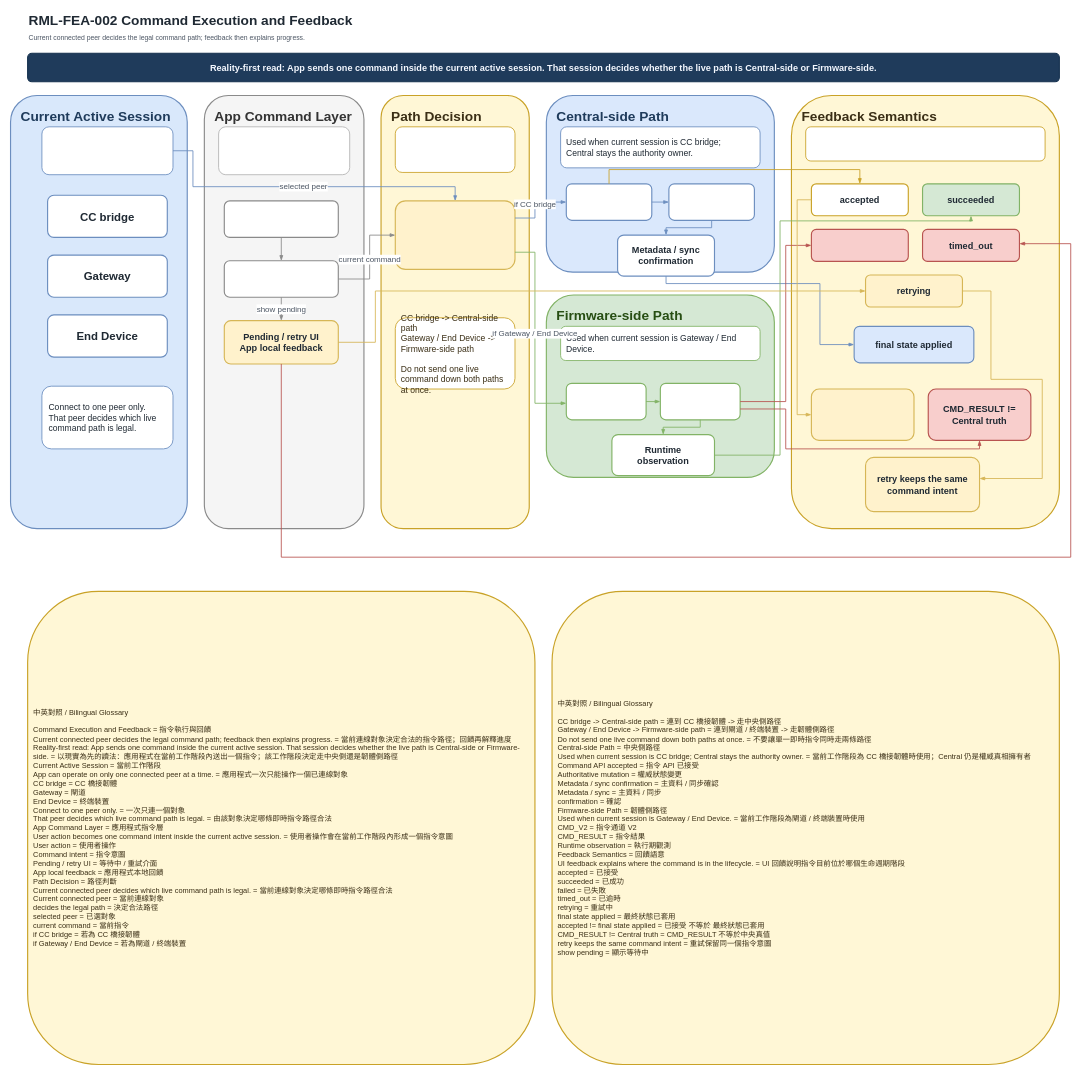
Some shapes in this 1085 by 1074 pixel diagram are drawn without their labels. The centre of each missing label's shape, as x and y in pixels:
accepted != final state applied: the point at 862,414
App can operate on only one connected peer at a time.: the point at 107,150
Authoritative mutation: the point at 711,202
CMD_RESULT: the point at 699,401
CMD_V2: the point at 605,401
Command API accepted: the point at 608,202
Command intent: the point at 281,279
Current connected peer decides the legal path: the point at 454,235
Current connected peer decides which live command path is legal.: the point at 455,149
failed: the point at 860,245
UI feedback explains where the command is in the lifecycle.: the point at 925,143
User action: the point at 281,219
User action becomes one command intent inside the current active session.: the point at 284,150
